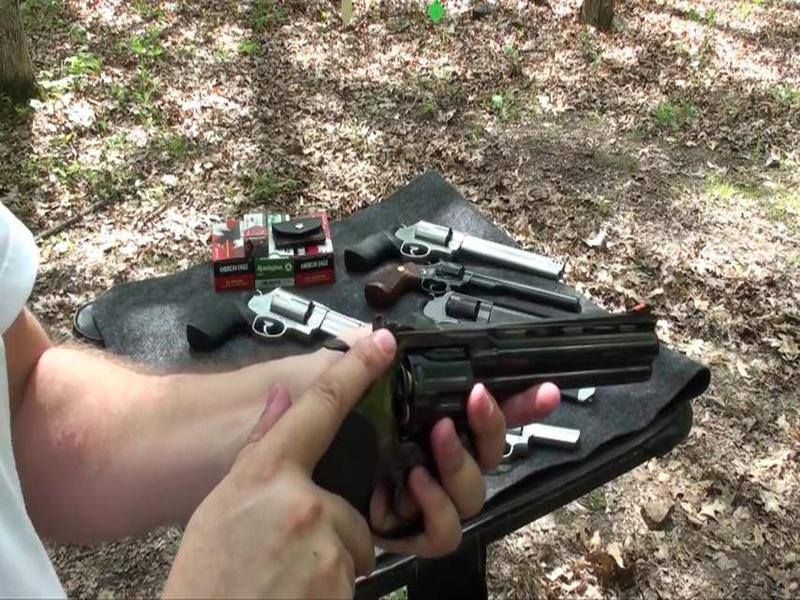Revolver: (263, 294, 680, 523)
